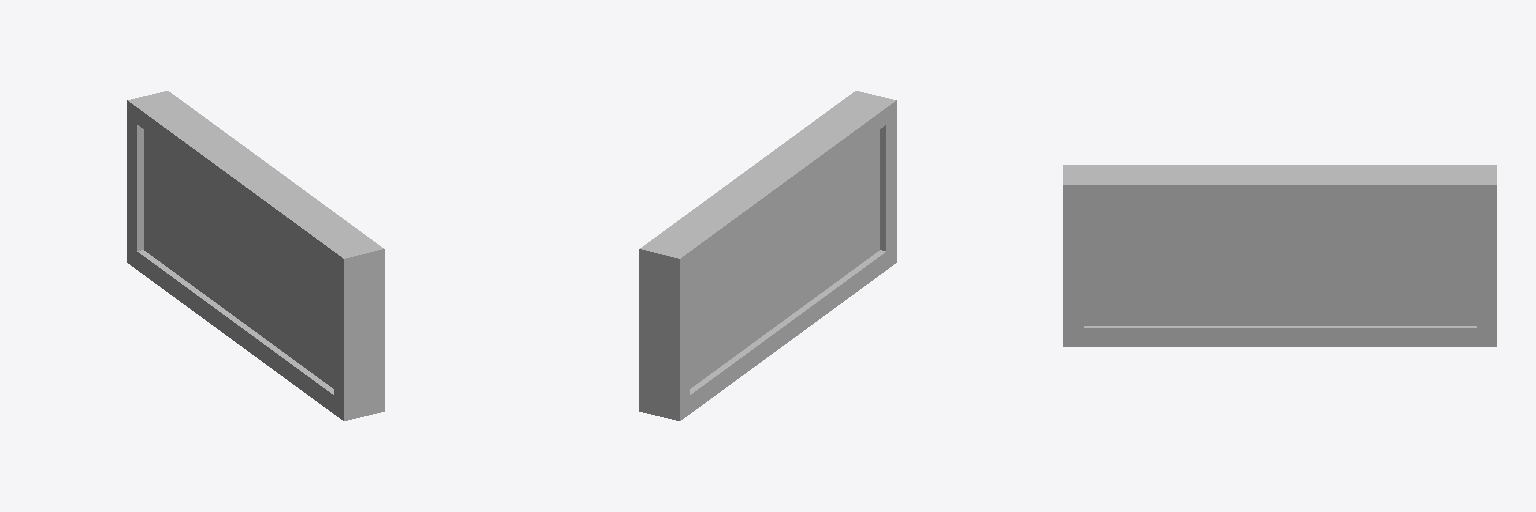
The model's file is Window_long.obj.
3 renders of one model, left to right at view 1: azimuth 30°, elevation 25°; view 2: azimuth 150°, elevation 25°; view 3: azimuth 270°, elevation 25°, orthographic.
Parts seen in each view (by area): view 1: frame, glass; view 2: frame, glass; view 3: glass, frame.
Boxes of the visible parts, <box> form: frame: <box>127,91,384,420</box>; glass: <box>144,130,333,388</box>; frame: <box>639,91,896,420</box>; glass: <box>690,130,879,388</box>; glass: <box>1084,201,1476,325</box>; frame: <box>1063,165,1496,346</box>.
Size of the model in its own units: 1 by 3.83 by 9.24.